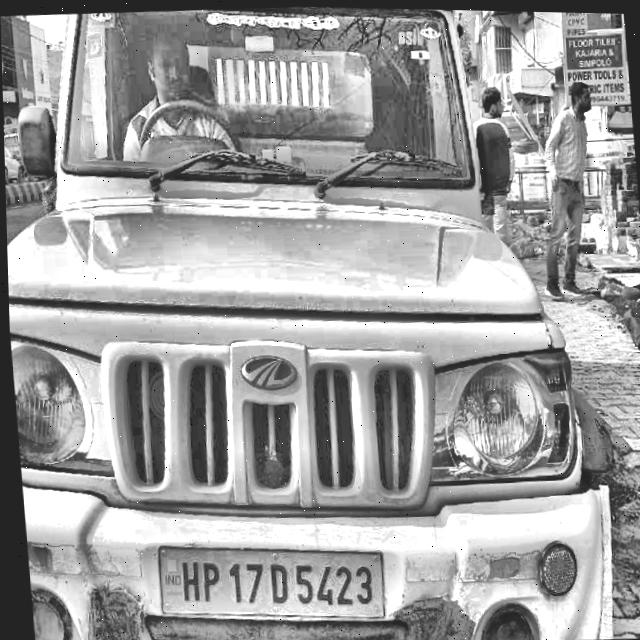light_vehicle: (0, 0, 616, 640)
